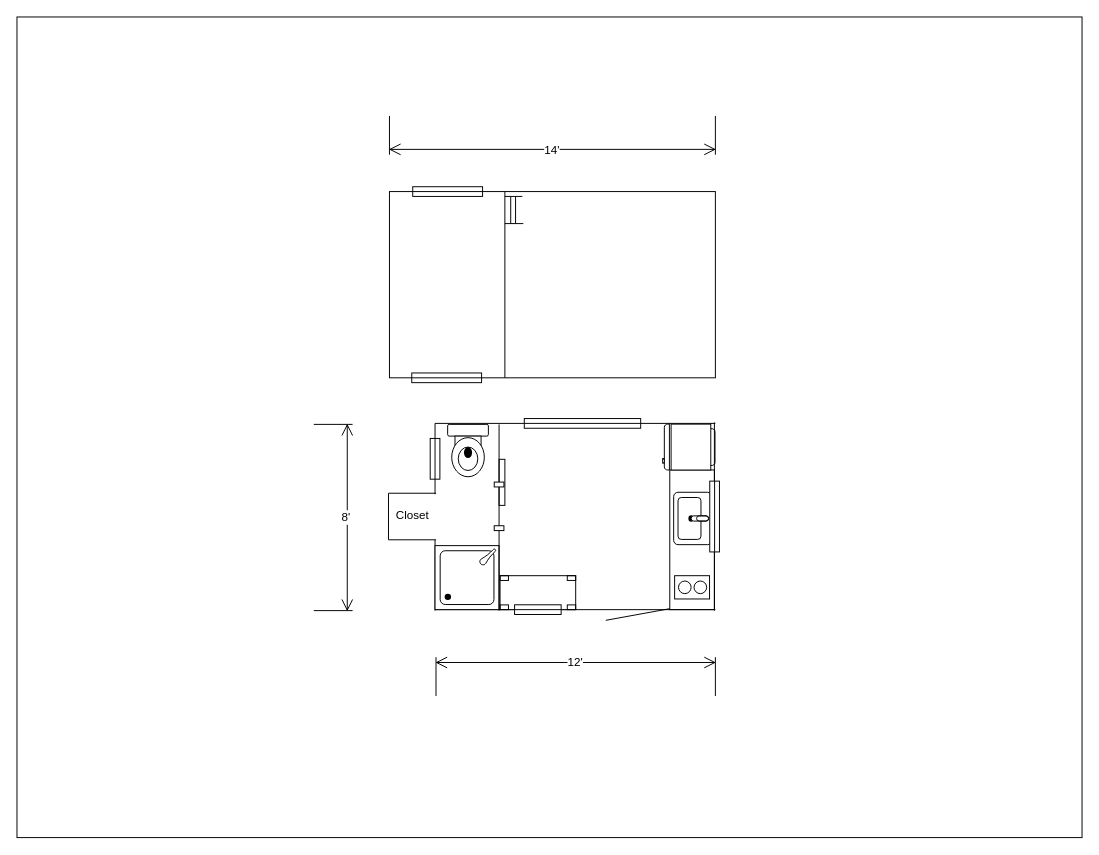
This 1099x855 diagram has some shape labels left out. Each missing label, with the box of its shape:
Desk/Dining: (499, 575, 576, 610)
Sleeping Loft: (388, 191, 715, 378)
